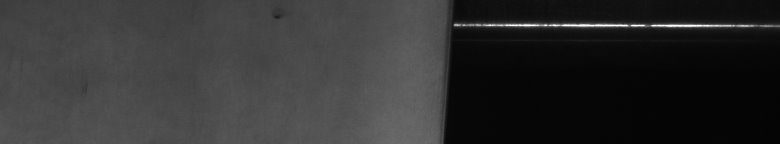fi: (273, 12, 285, 28)
